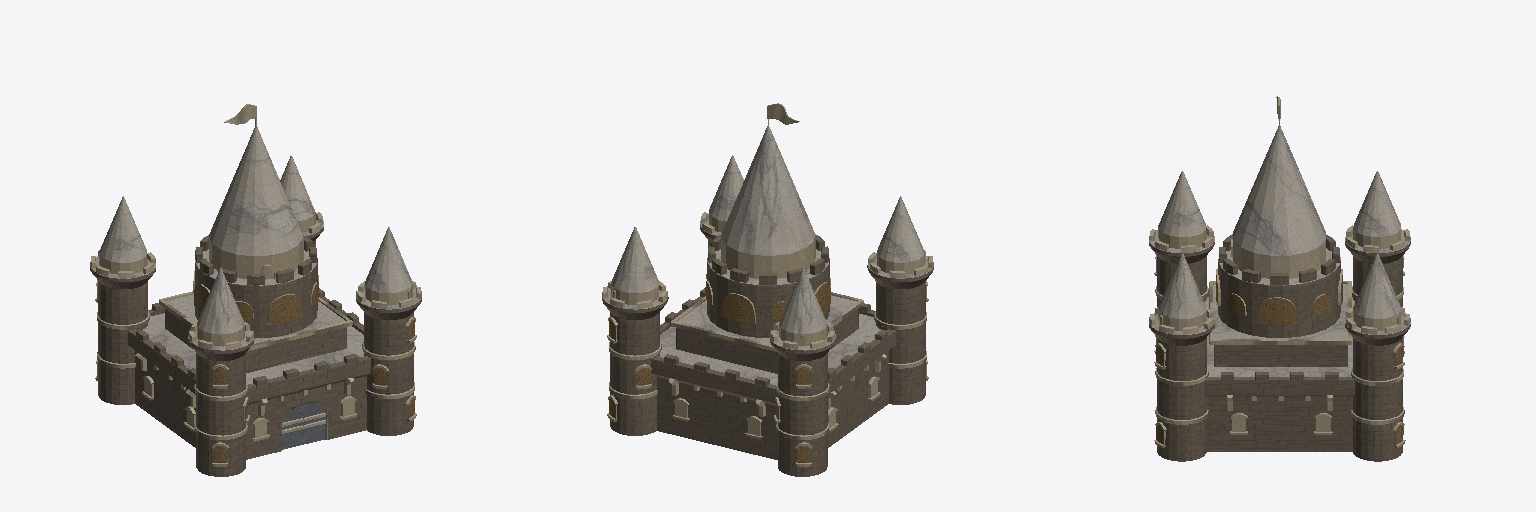
3 renders of one model, left to right at view 1: azimuth 30°, elevation 25°; view 2: azimuth 150°, elevation 25°; view 3: azimuth 270°, elevation 25°, orthographic.
Parts seen in each view (by area): view 1: mesh_normalized.002; view 2: mesh_normalized.002; view 3: mesh_normalized.002.
Boxes of the visible parts, x1=… form: mesh_normalized.002: x1=90, y1=104, x2=421, y2=476; mesh_normalized.002: x1=602, y1=103, x2=933, y2=476; mesh_normalized.002: x1=1149, y1=96, x2=1410, y2=461.
Size of the model in its own units: 0.3584 by 0.469 by 0.3616.
Materials: 1 (1 with a texture image).